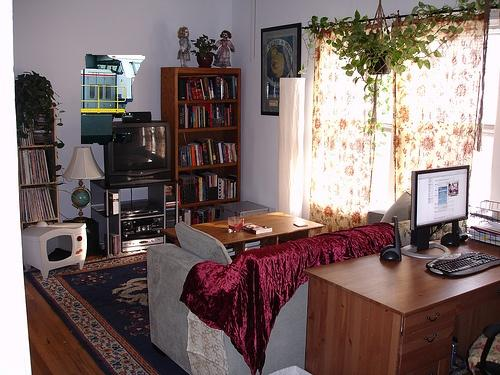tampered: (82, 55, 145, 145)
